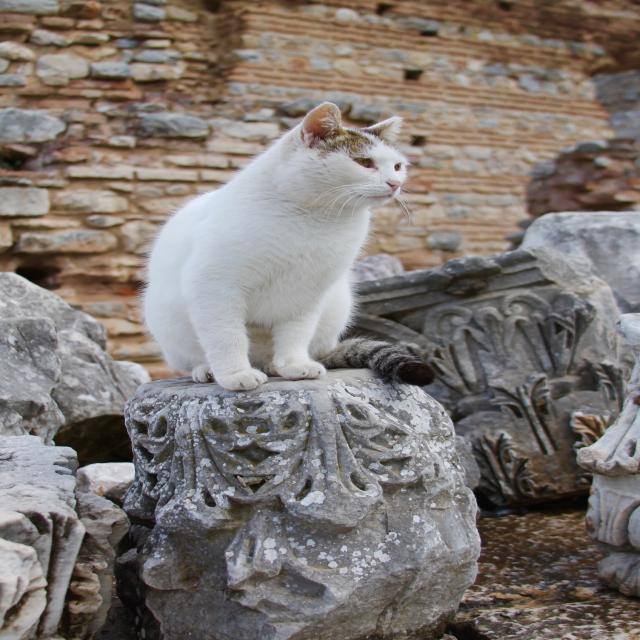cat: (142, 102, 409, 390)
